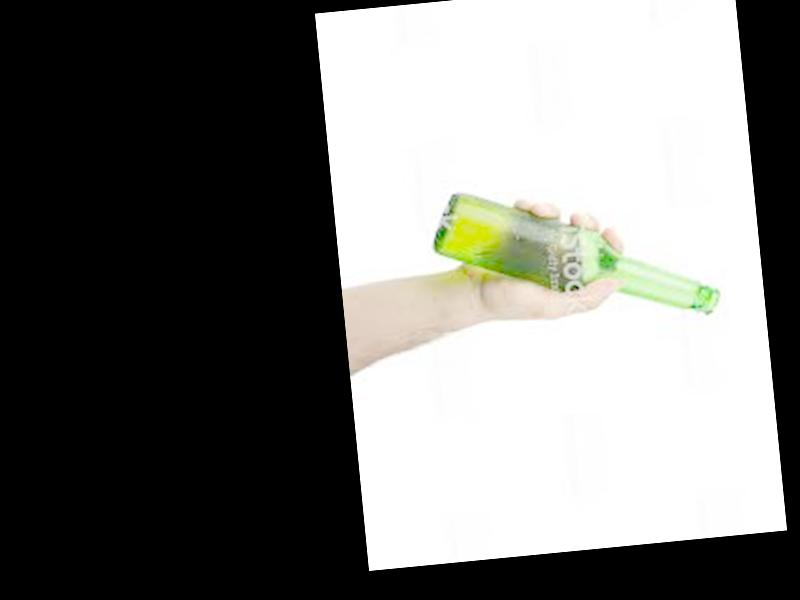Beer: (431, 167, 724, 340)
